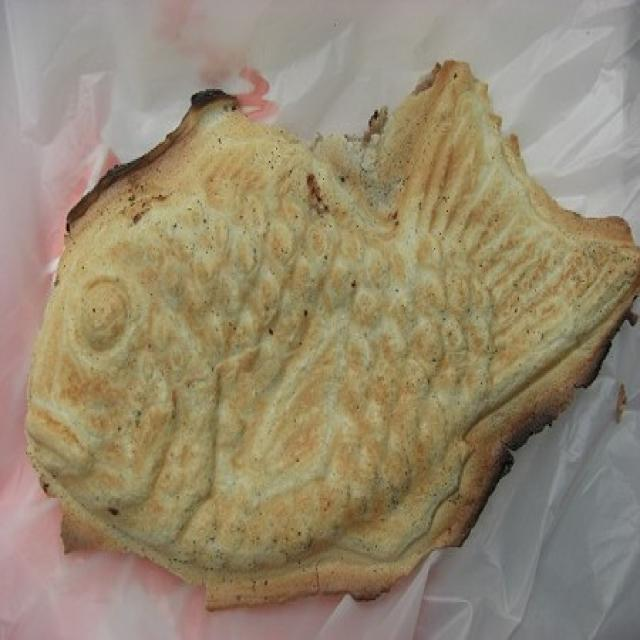熟制海鲜: (17, 51, 640, 606)
